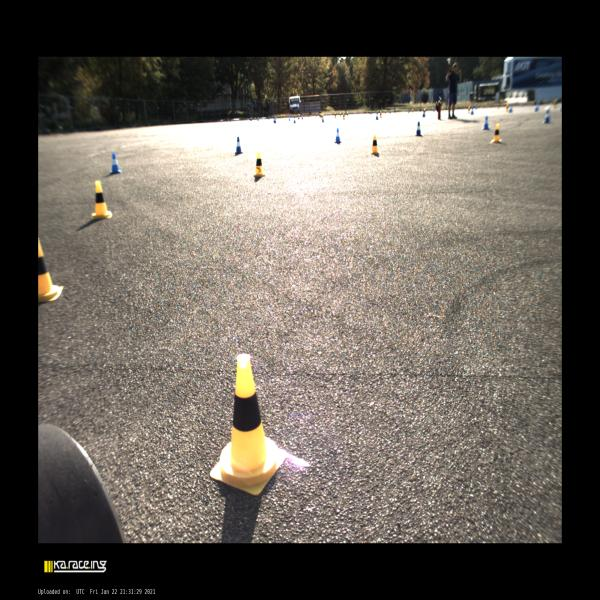blue_cone: (110, 153, 121, 173), (334, 127, 342, 143), (235, 136, 242, 154), (415, 121, 422, 137), (482, 116, 490, 130), (543, 110, 551, 124), (534, 104, 539, 112), (375, 112, 379, 120), (470, 107, 474, 115), (509, 105, 513, 113), (422, 110, 426, 117), (293, 117, 296, 124), (301, 114, 304, 120), (322, 115, 324, 123), (274, 117, 276, 123), (288, 115, 290, 121), (298, 115, 300, 120), (250, 117, 252, 121), (268, 116, 270, 120), (258, 116, 259, 122), (390, 109, 391, 114), (316, 113, 317, 117)
yellow_cone: (210, 355, 286, 495), (38, 238, 63, 302), (90, 181, 113, 219), (253, 152, 265, 176), (490, 124, 502, 142), (371, 134, 379, 153), (506, 104, 509, 112), (334, 112, 337, 118), (346, 112, 349, 117), (343, 113, 345, 120), (320, 113, 322, 120), (380, 111, 382, 118), (468, 106, 470, 113), (281, 114, 283, 120), (412, 108, 414, 114), (283, 114, 285, 119), (340, 112, 342, 117), (384, 110, 386, 115)
